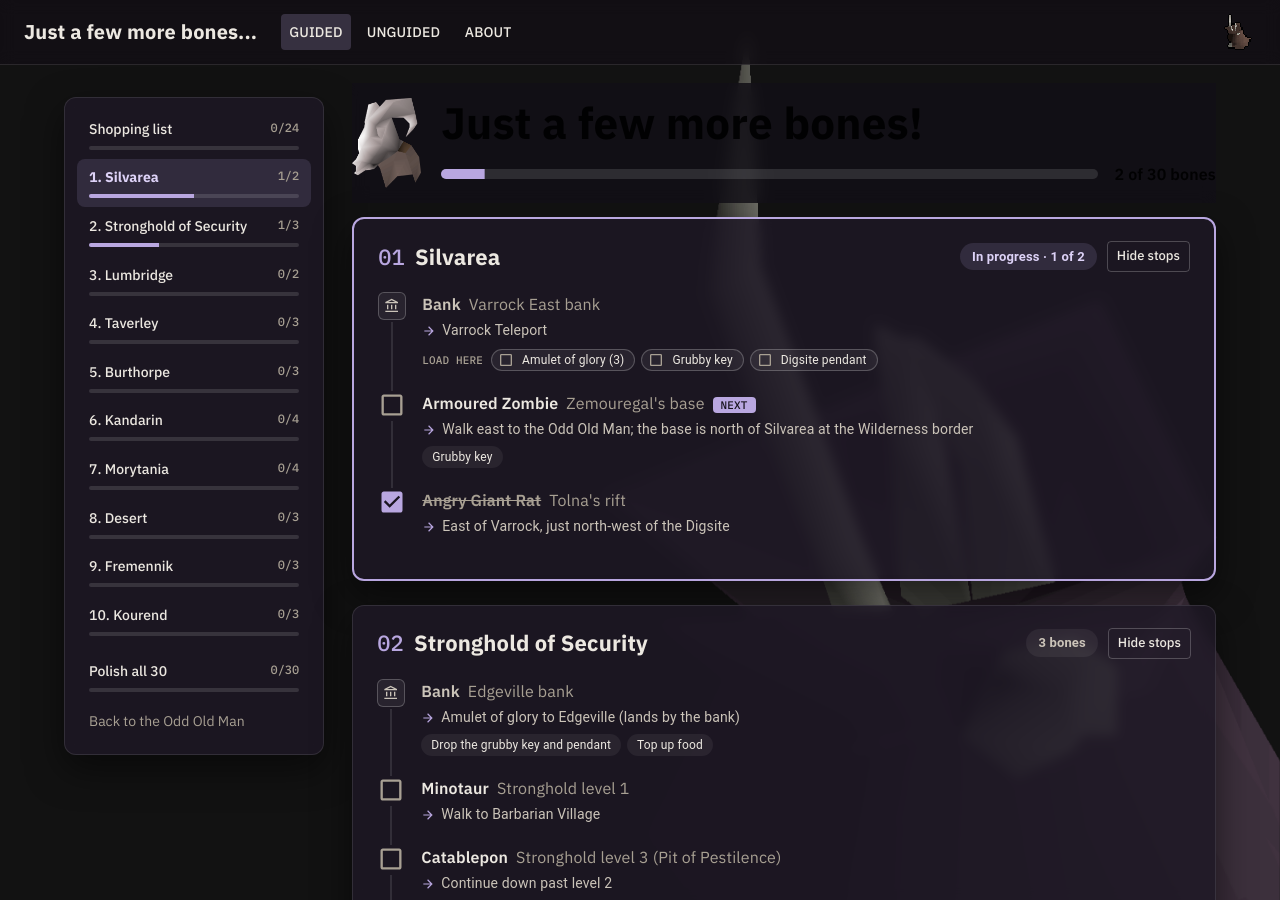
SillyBonesack easter egg › says something silly when clicked
Step 1. Click the button named "Bonesack" → (1238, 32), box [1220,10,1256,54]
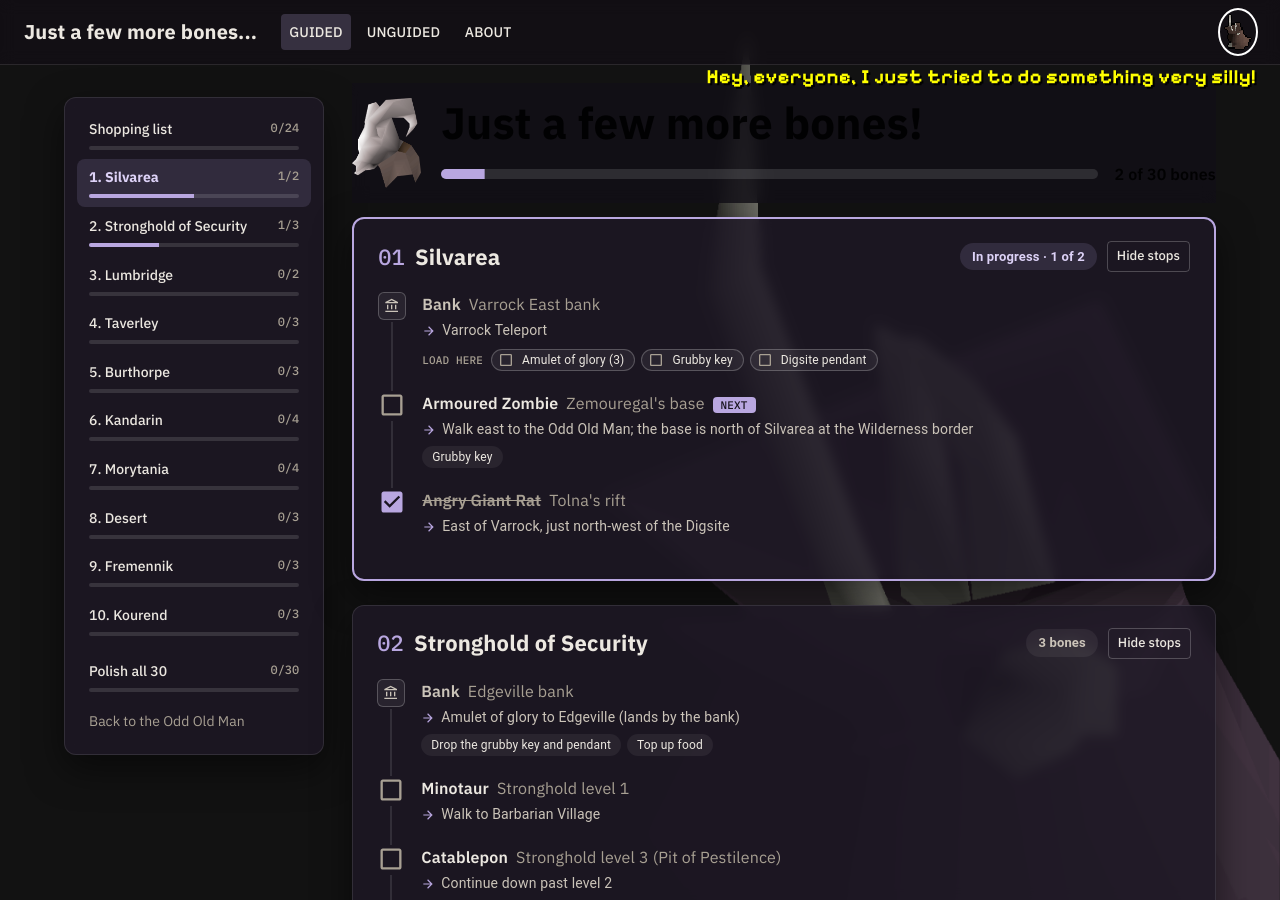
Expected: the message shows "Hey, everyone, I just tried to do something very silly!", [714,65,1256,89]
